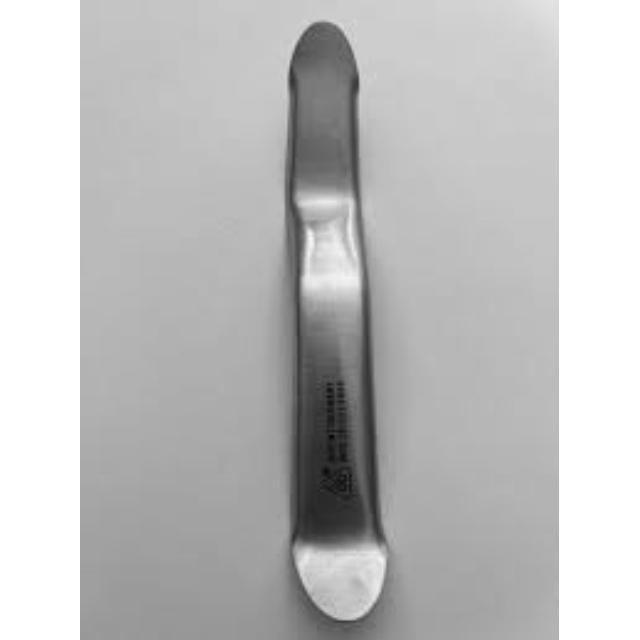separador: (285, 21, 390, 620)
